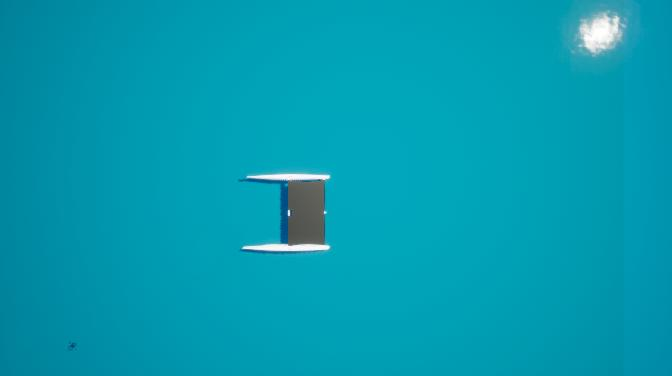boat: (239, 169, 333, 259)
drone: (66, 340, 78, 355)
land_base: (288, 182, 324, 244)
light_reflex: (561, 1, 644, 68)
